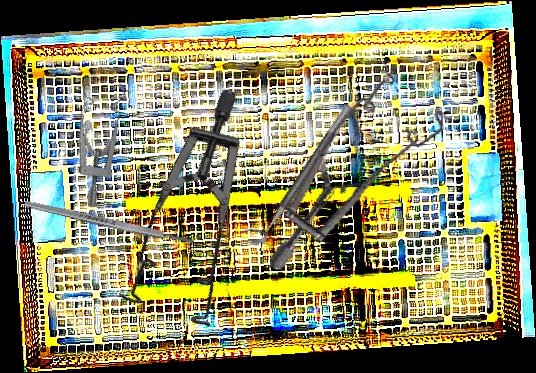Fixation Ring: (239, 95, 355, 251)
Scalpel Handle: (23, 198, 195, 247)
Speculum: (61, 84, 342, 360), (269, 55, 457, 298), (31, 66, 155, 211)
